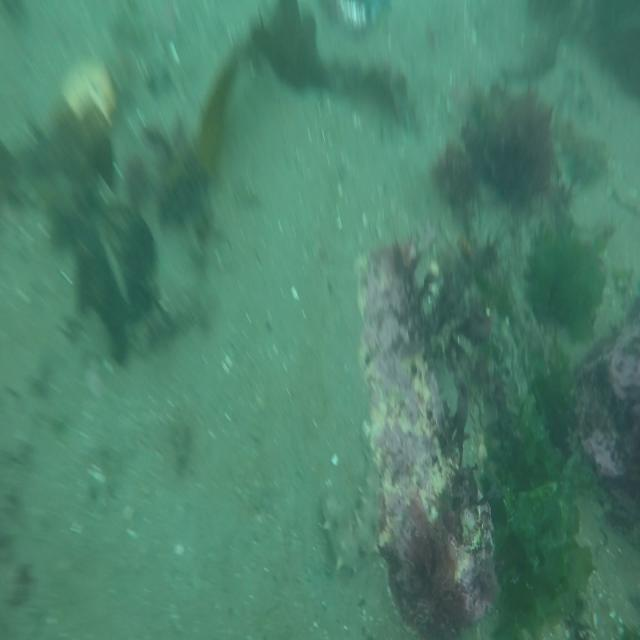holothurian: (322, 448, 384, 572)
